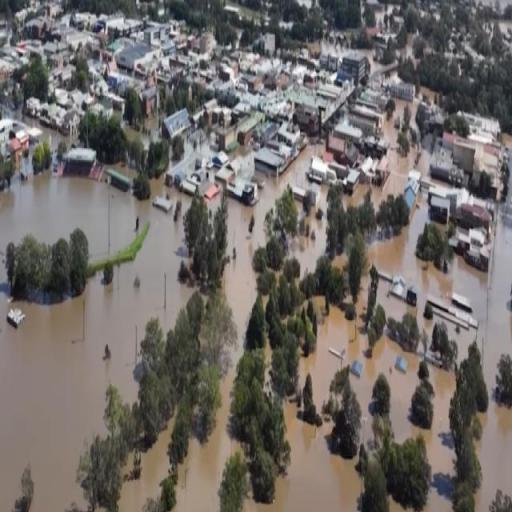flood: (0, 173, 194, 512), (174, 143, 325, 512), (300, 270, 456, 482), (368, 192, 512, 392), (244, 402, 362, 512), (345, 98, 420, 206), (119, 426, 171, 512), (477, 402, 512, 512), (290, 185, 329, 273), (362, 50, 397, 84), (425, 489, 454, 512), (323, 42, 341, 54), (442, 484, 448, 490)
house: (454, 224, 492, 275), (60, 143, 98, 181), (118, 44, 160, 76), (254, 142, 288, 178), (162, 106, 194, 142), (293, 103, 327, 135), (430, 139, 455, 181), (456, 201, 494, 228), (308, 150, 334, 188), (347, 107, 383, 133), (338, 50, 369, 80), (474, 114, 503, 144), (201, 102, 234, 128), (0, 120, 25, 146), (430, 196, 451, 226), (0, 46, 25, 70), (41, 103, 64, 128), (217, 62, 236, 90), (140, 88, 160, 114), (163, 38, 186, 60), (262, 96, 287, 116), (316, 83, 343, 101), (240, 117, 258, 142), (392, 80, 414, 100), (211, 148, 230, 168), (43, 41, 60, 61), (391, 276, 406, 298), (66, 112, 81, 134), (218, 130, 235, 149), (248, 72, 264, 92), (272, 72, 290, 89)
